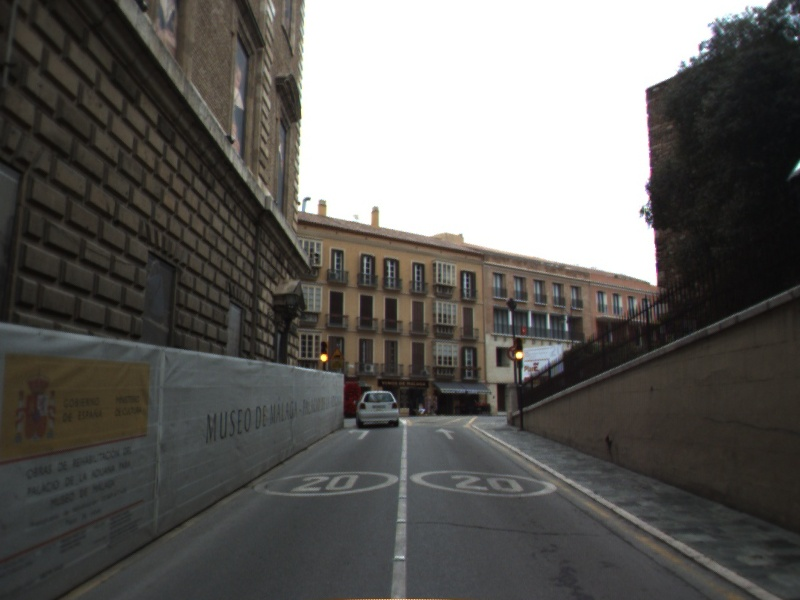LEFT: (346, 426, 372, 441)
STRAIGHT: (433, 426, 457, 441)
